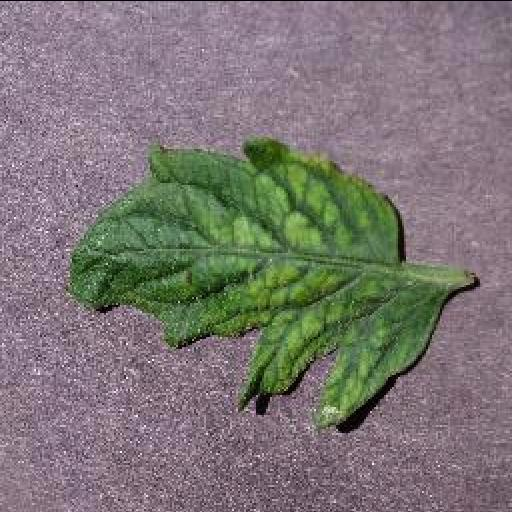Mosaic Virus: (64, 134, 446, 428)
